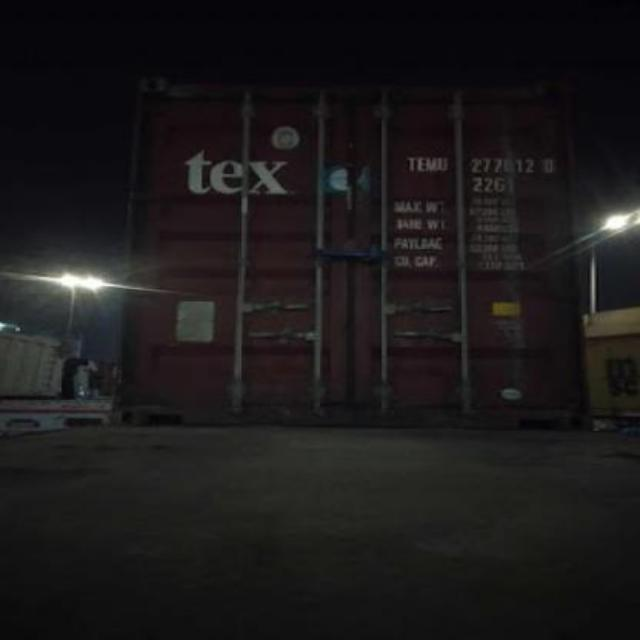0: (542, 154, 562, 178)
1: (512, 153, 524, 177)
2: (524, 154, 536, 176), (468, 156, 480, 174)
7: (490, 156, 502, 174), (480, 156, 490, 174)
8: (502, 152, 512, 175)
E: (416, 154, 426, 174)
M: (424, 152, 436, 175)
T: (400, 151, 416, 175)
U: (436, 152, 449, 174)
